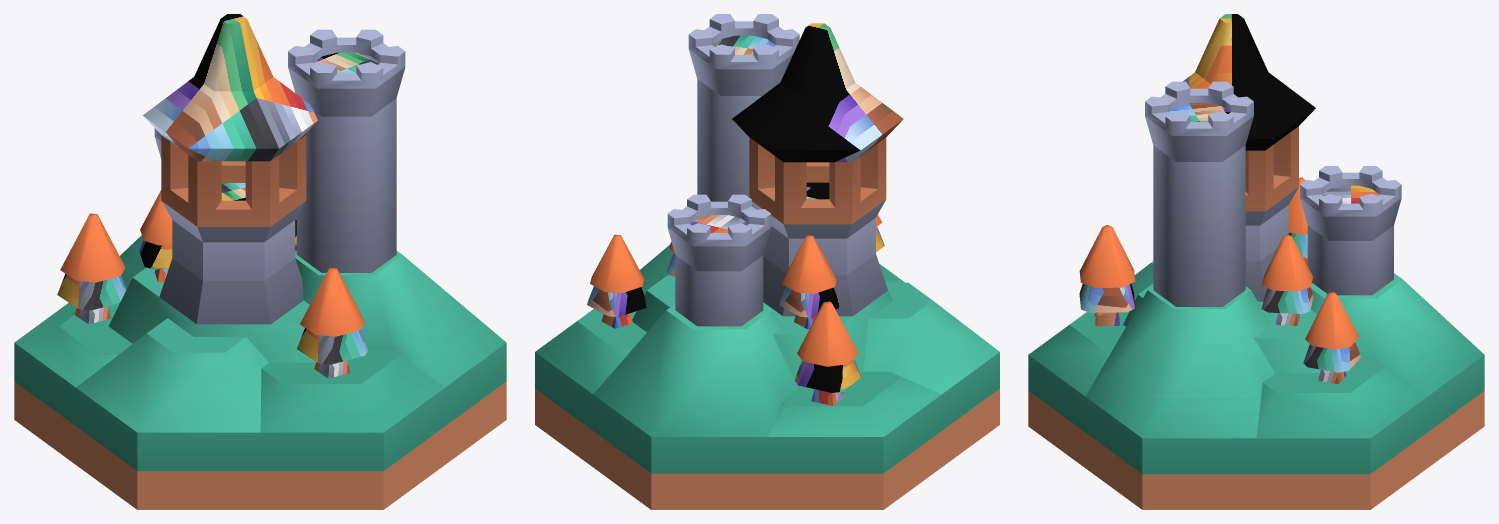
Rendered from building-archery.fbx.
The picture shows the model from 3 angles, left to right: view 1: azimuth 30°, elevation 25°; view 2: azimuth 150°, elevation 25°; view 3: azimuth 270°, elevation 25°; orthographic projection. The views are drawn at different scales.
Visible parts, largest first — view 1: building_wizard_tower.006, building_wizard_tower, building_wizard_tower.008, building_wizard_tower.001, building_wizard_tower.004, building_wizard_tower.002, building_wizard_tower.003, building_wizard_tower.009; view 2: building_wizard_tower.006, building_wizard_tower, building_wizard_tower.008, building_wizard_tower.001, building_wizard_tower.002, building_wizard_tower.007, building_wizard_tower.003, building_wizard_tower.009; view 3: building_wizard_tower.006, building_wizard_tower, building_wizard_tower.008, building_wizard_tower.001, building_wizard_tower.004, building_wizard_tower.007, building_wizard_tower.005, building_wizard_tower.009, building_wizard_tower.003.
Boxes of the visible parts, x1,y1,x2,y2 form: building_wizard_tower.006: (14,235,506,432); building_wizard_tower: (154,29,405,324); building_wizard_tower.008: (14,343,506,509); building_wizard_tower.001: (143,14,317,161); building_wizard_tower.004: (297,267,367,378); building_wizard_tower.002: (57,213,126,324); building_wizard_tower.003: (139,190,172,282); building_wizard_tower.009: (313,52,379,73); building_wizard_tower.006: (535,245,999,436); building_wizard_tower: (667,14,887,326); building_wizard_tower.008: (535,352,999,509); building_wizard_tower.001: (732,23,903,162); building_wizard_tower.002: (794,301,861,405); building_wizard_tower.007: (587,234,646,328); building_wizard_tower.003: (779,235,839,329); building_wizard_tower.009: (690,35,775,232); building_wizard_tower.006: (1028,261,1484,438); building_wizard_tower: (1145,81,1401,306); building_wizard_tower.008: (1028,355,1484,509); building_wizard_tower.001: (1183,14,1315,150); building_wizard_tower.004: (1079,225,1135,326); building_wizard_tower.007: (1303,292,1361,383); building_wizard_tower.005: (1261,234,1313,325); building_wizard_tower.009: (1168,103,1379,203); building_wizard_tower.003: (1288,177,1307,265).
Size of the model in its own units: 100 by 109 by 115.
